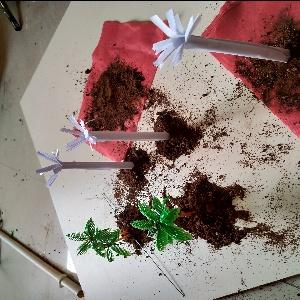plant: (133, 201, 206, 254), (62, 216, 138, 266)
weed: (145, 11, 295, 85), (56, 109, 177, 149), (34, 147, 140, 182)
